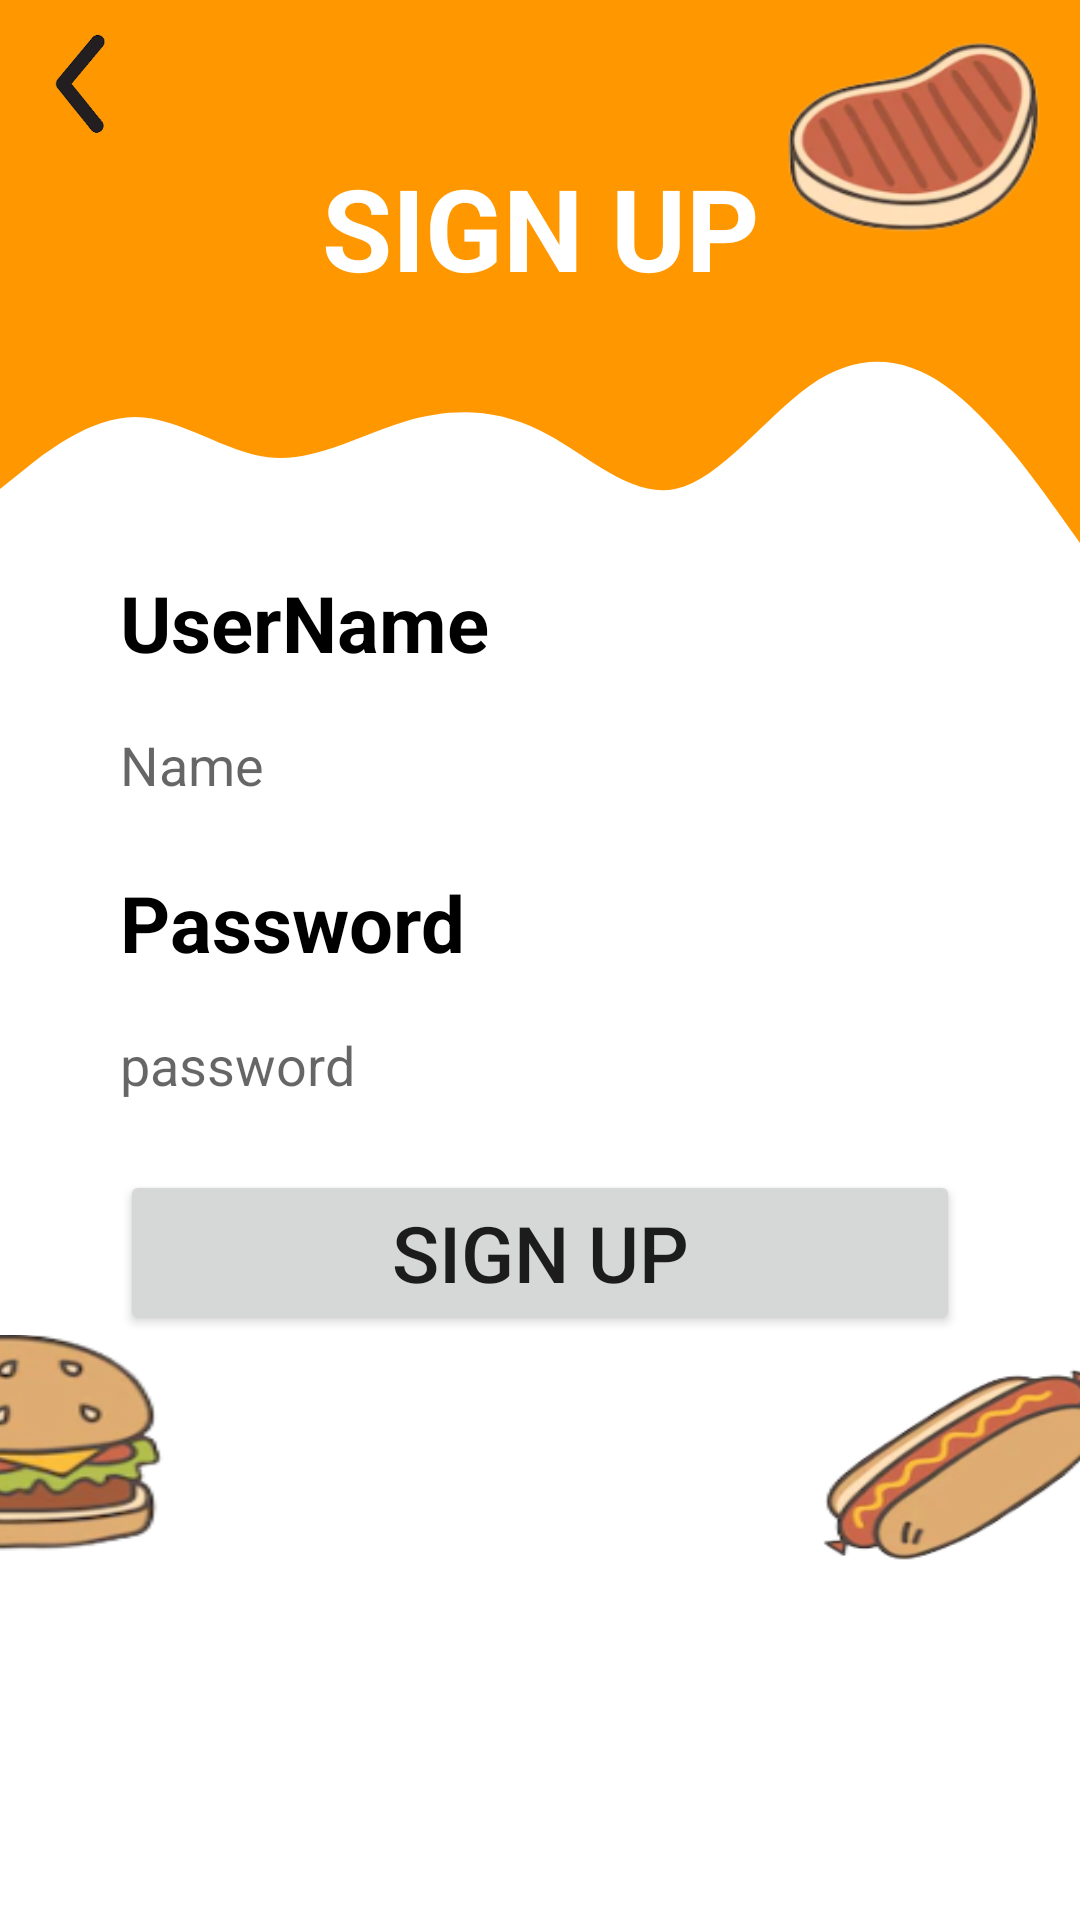

Where icons sit on this 1080w x 1920h app screen, as (x1, y1, x2, y2):
iconback: (55, 35, 105, 133)
